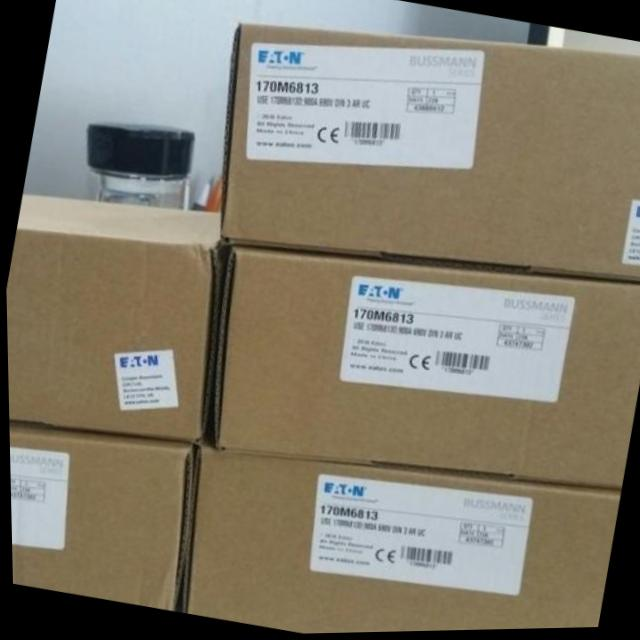box: (218, 21, 640, 286), (211, 247, 640, 492), (179, 441, 619, 635), (5, 194, 221, 444), (7, 422, 192, 612)
